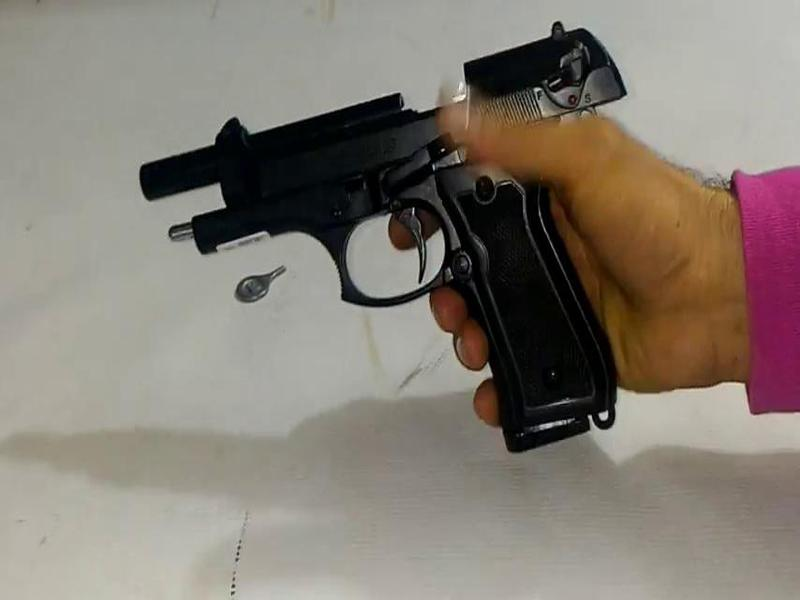Pistola: (133, 12, 677, 449)
